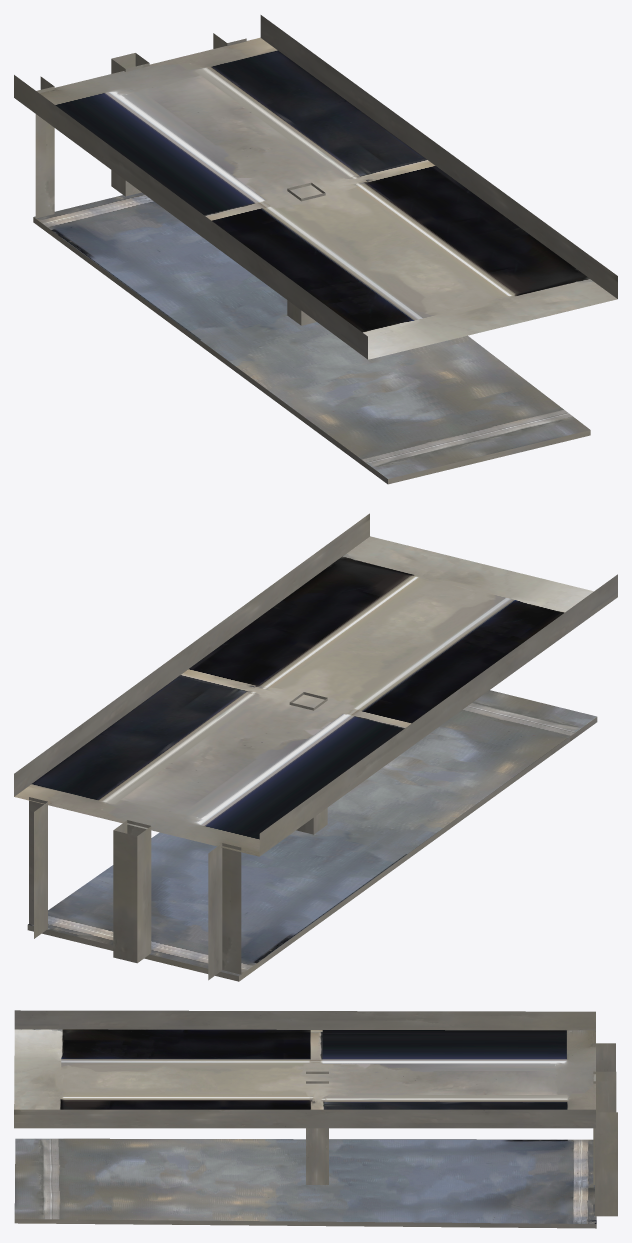
Rendered from well_brige.fbx.
3 views of the same model, one above another, from view 1: azimuth 30°, elevation 25°; view 2: azimuth 150°, elevation 25°; view 3: azimuth 270°, elevation 25° (orthographic). The views are drawn at different scales.
Visible parts, largest first — view 1: well brige; view 2: well brige; view 3: well brige.
Part boxes in pixels (x1,y1,x2,y2): well brige: (14, 15, 617, 484); well brige: (14, 513, 617, 981); well brige: (14, 1010, 617, 1228).
Size of the model in its own units: 421 by 247 by 1086.
Materials: 1 (1 with a texture image).
